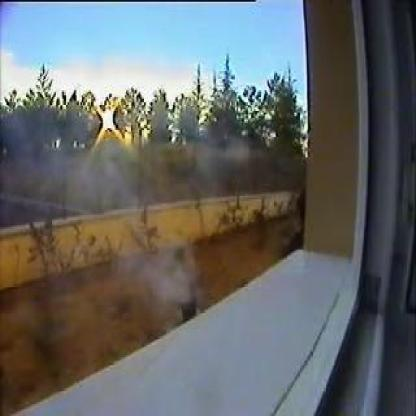-: (130, 247, 192, 301)
